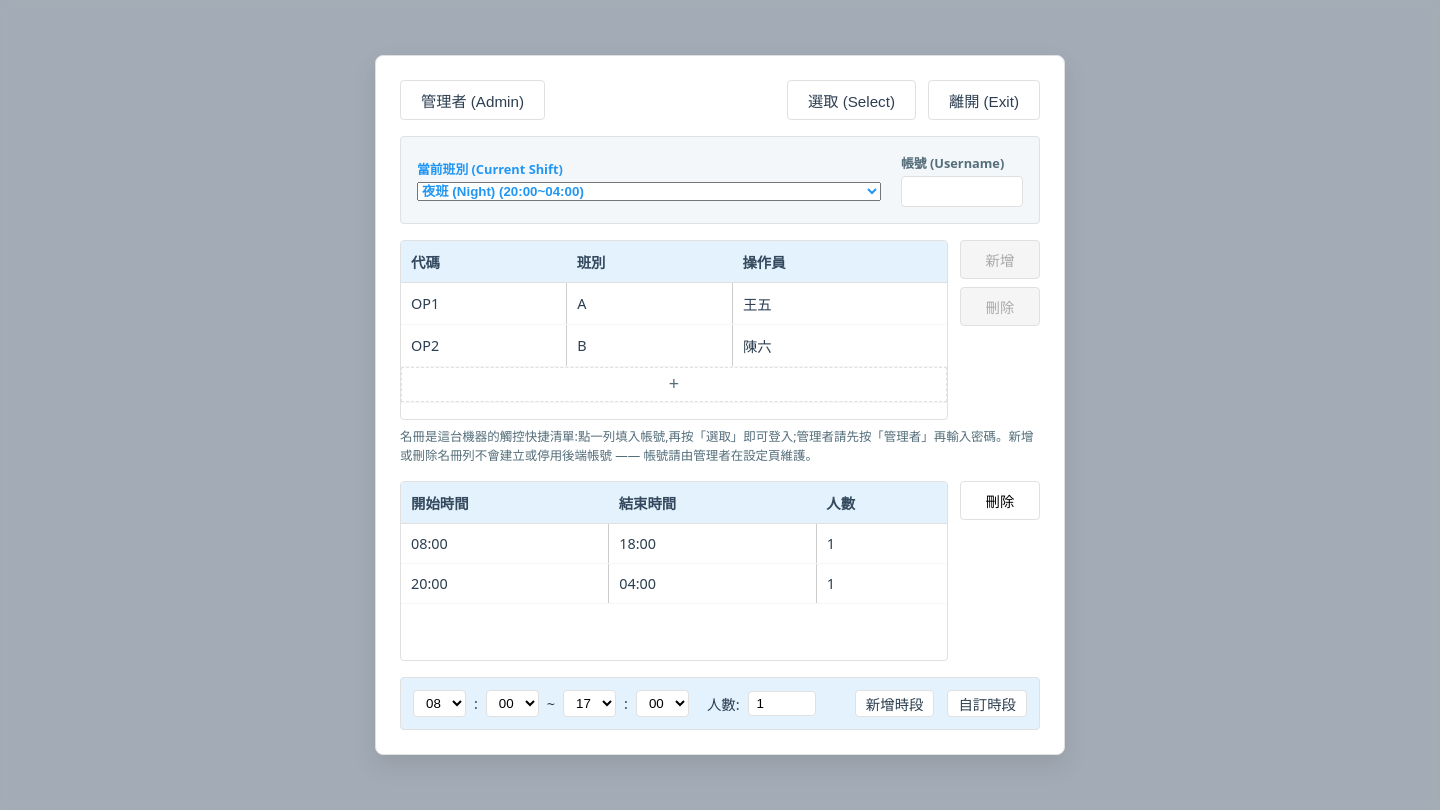
it: S13 點名冊列不得靜默覆寫已輸入的帳號 › 清空帳號欄之後,點列又能填入了
The image size is (1440, 810).
Expected: the text "帳號 (Username)" is shown, [901,154,1004,172]
Type "admin" into the field named "帳號 (Username)".
click(962, 191); type("admin")  # box [901,176,1023,207]
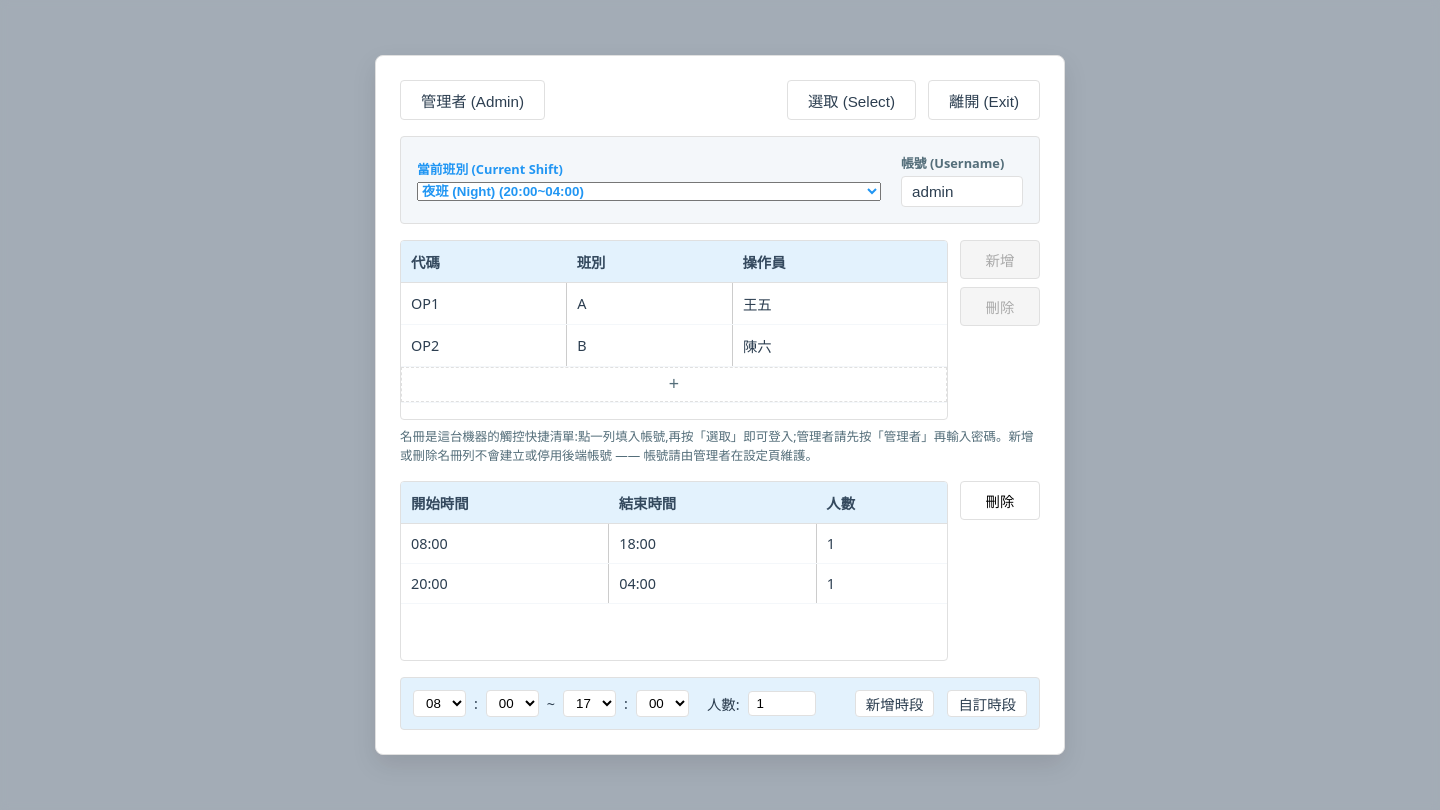
Click the text "王五".
click(840, 303)  # box [732,282,947,324]
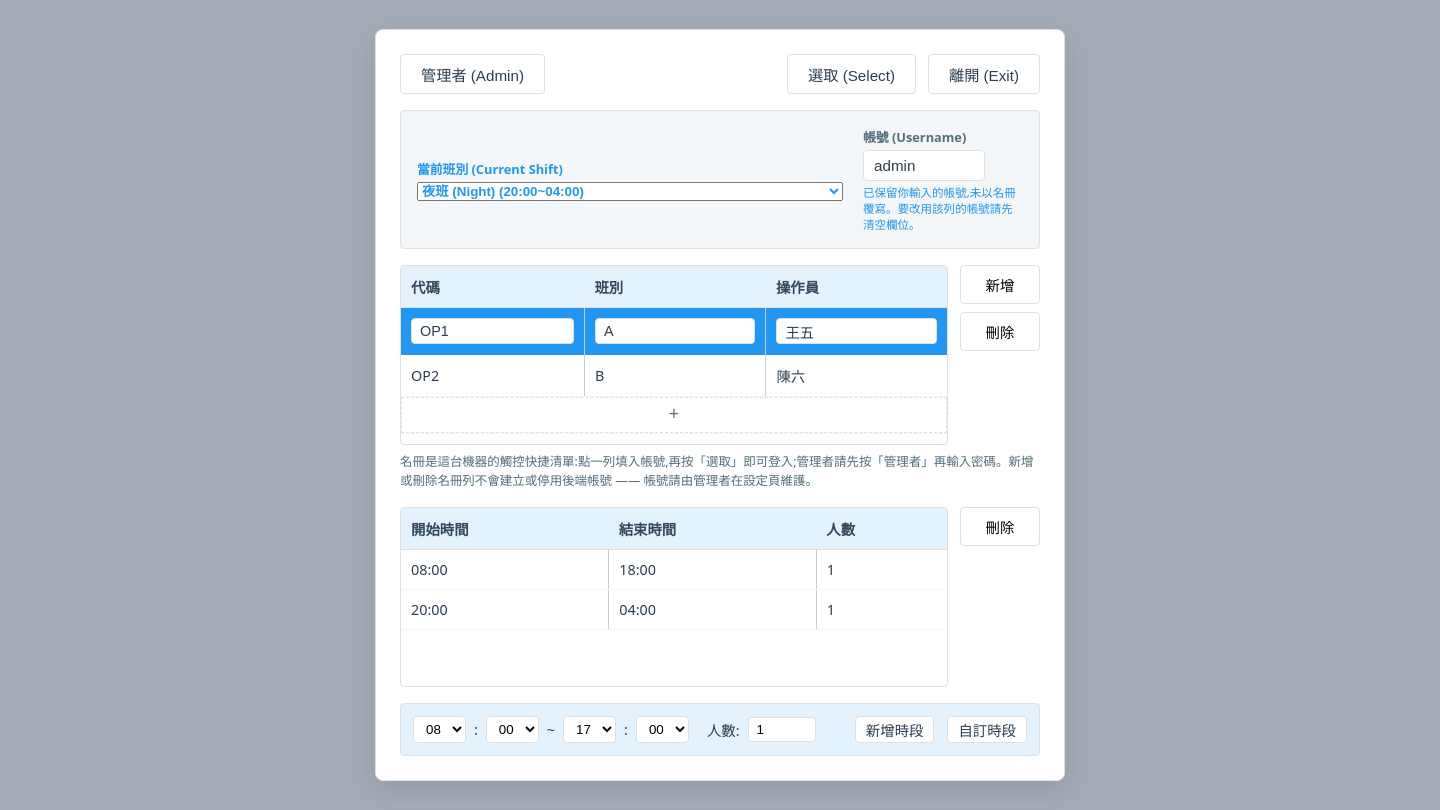
Clear the field named "帳號 (Username)" at (924, 166), box [863,150,985,182]
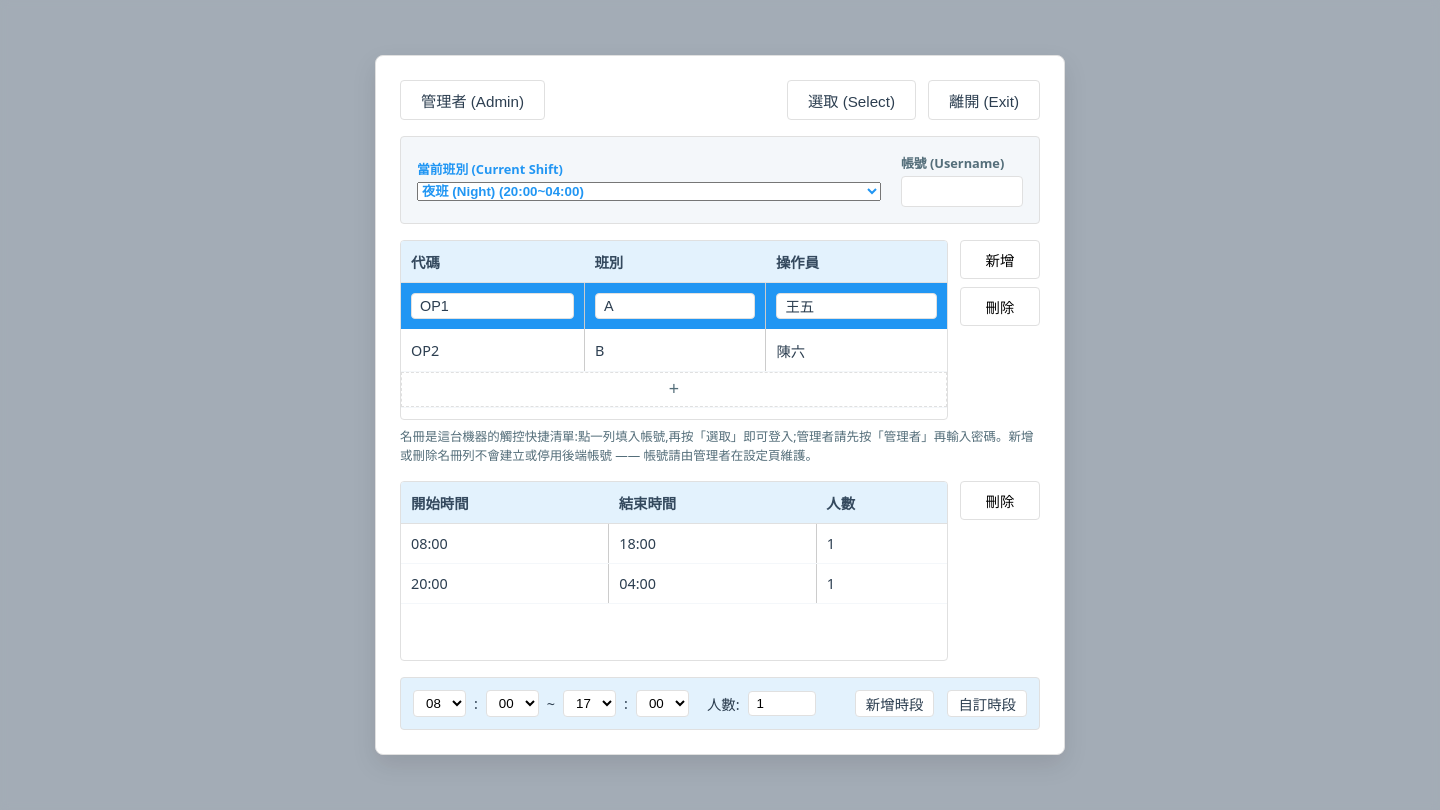
Click the text "陳六".
click(856, 350)  # box [766,329,947,371]
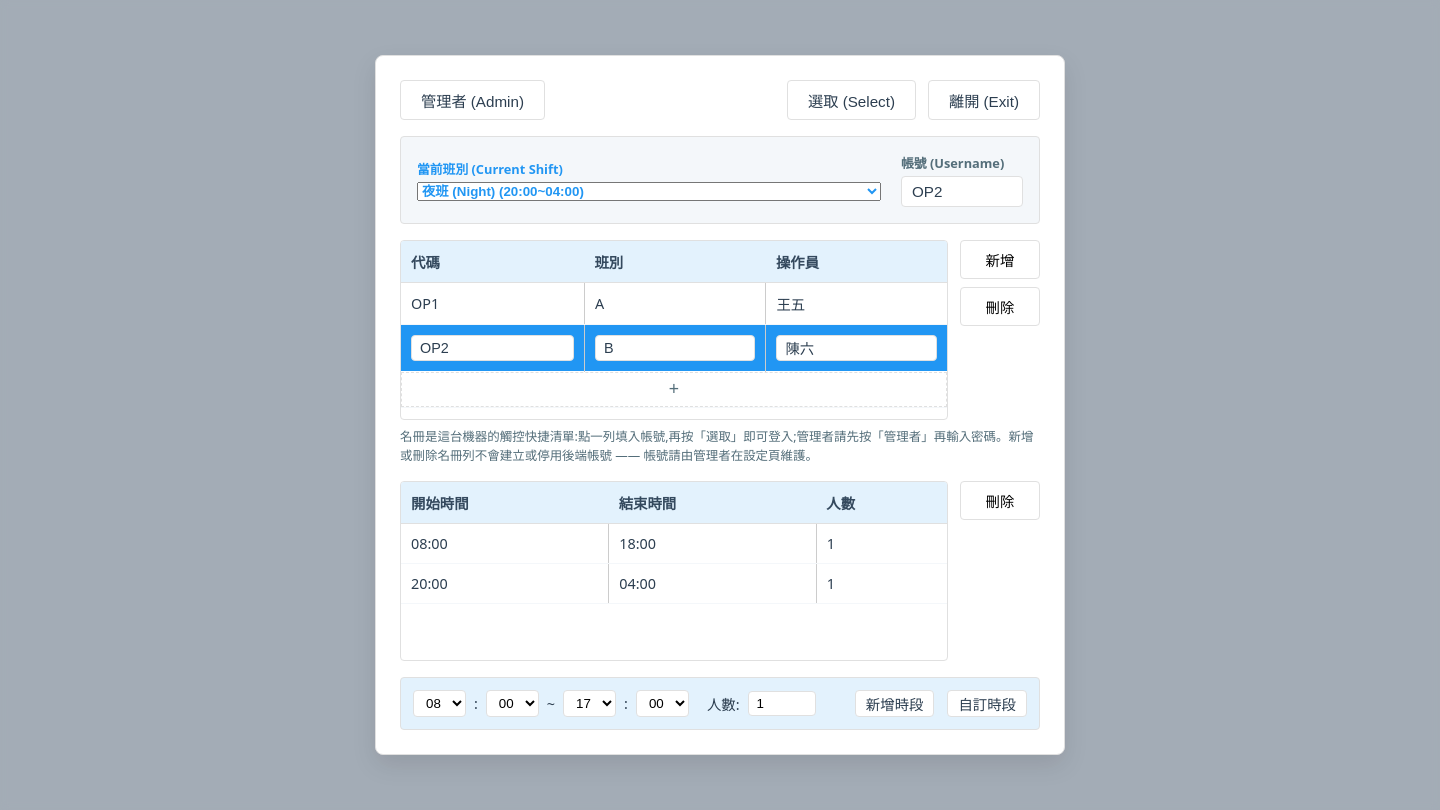
Expected: the field named "帳號 (Username)" holds "OP2", [901,176,1023,207]
